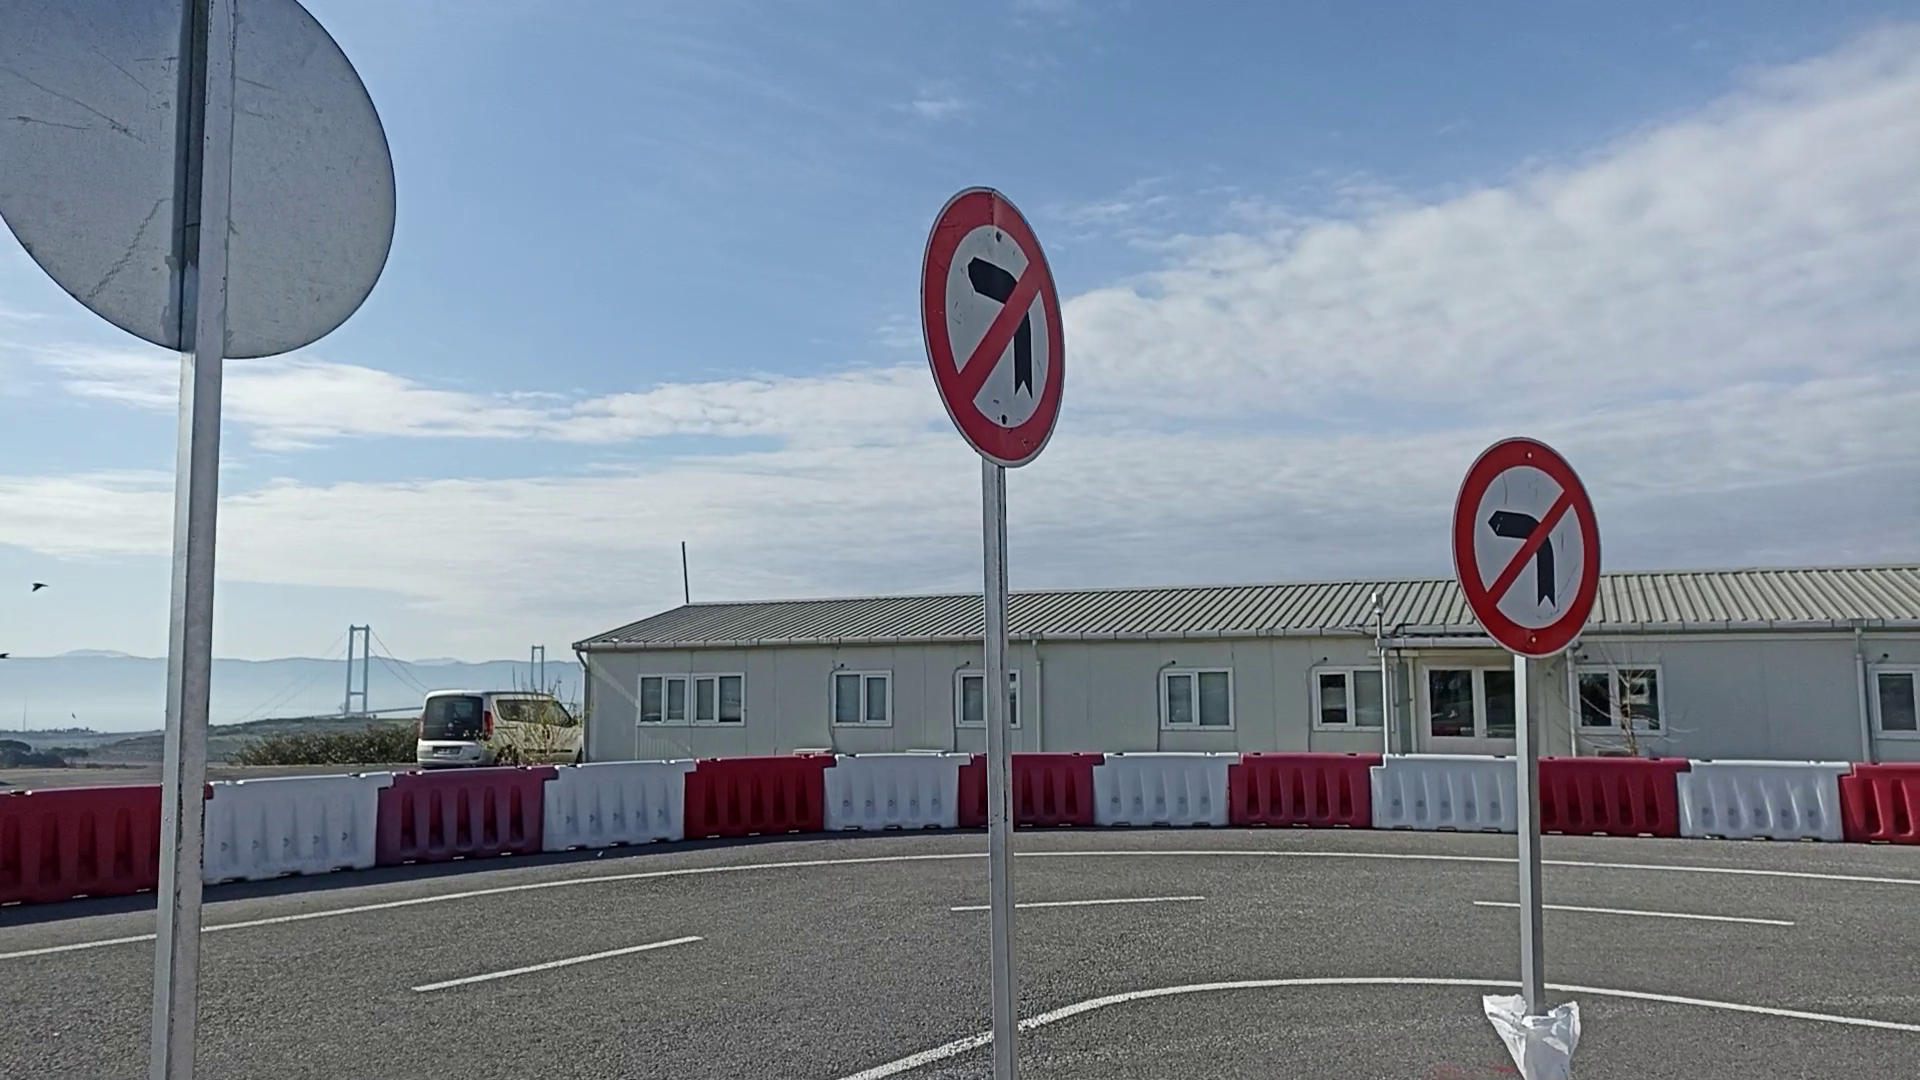noleft: (918, 185, 1069, 469), (1447, 433, 1605, 665)
